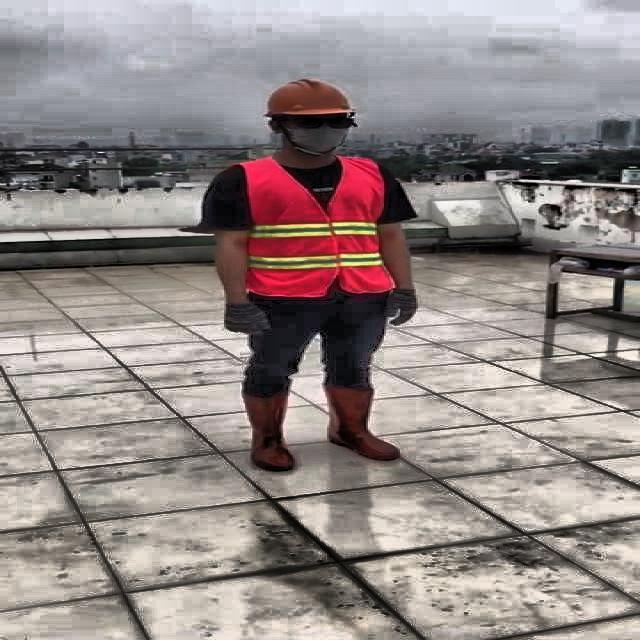safety_helmet: (260, 76, 354, 117)
safety_jacket: (236, 155, 394, 295)
